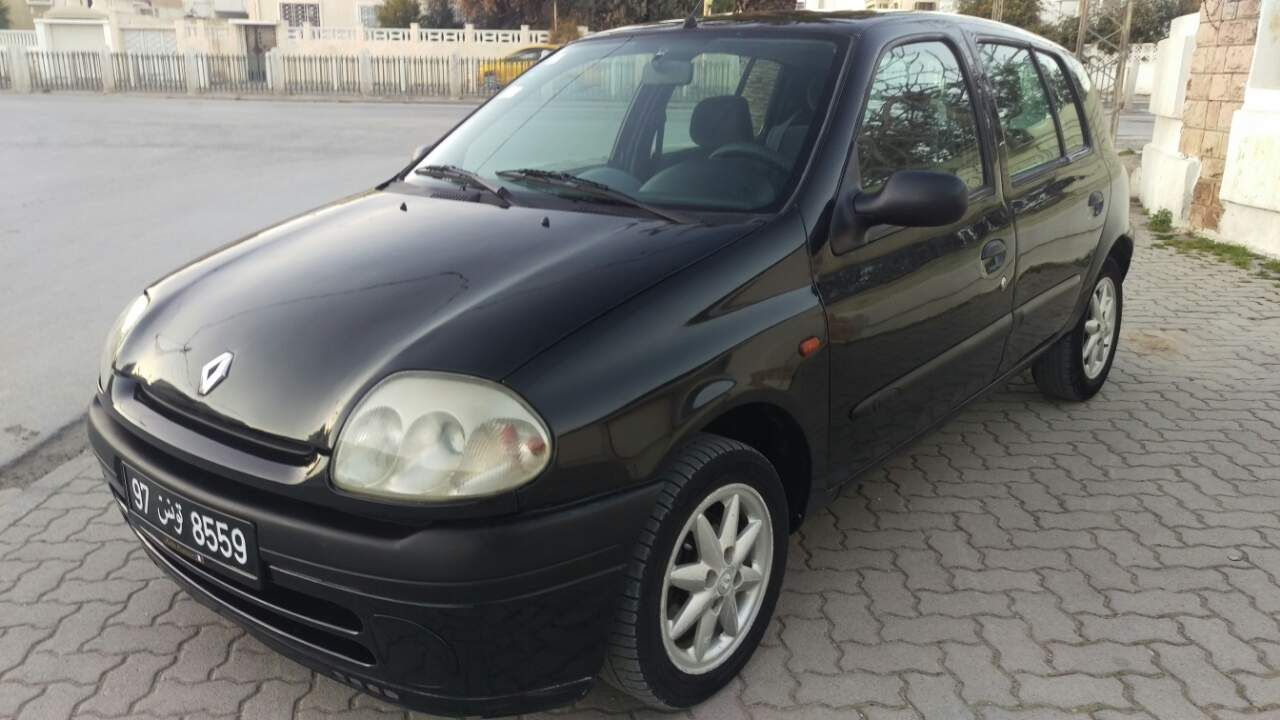LP: (114, 461, 259, 583)
